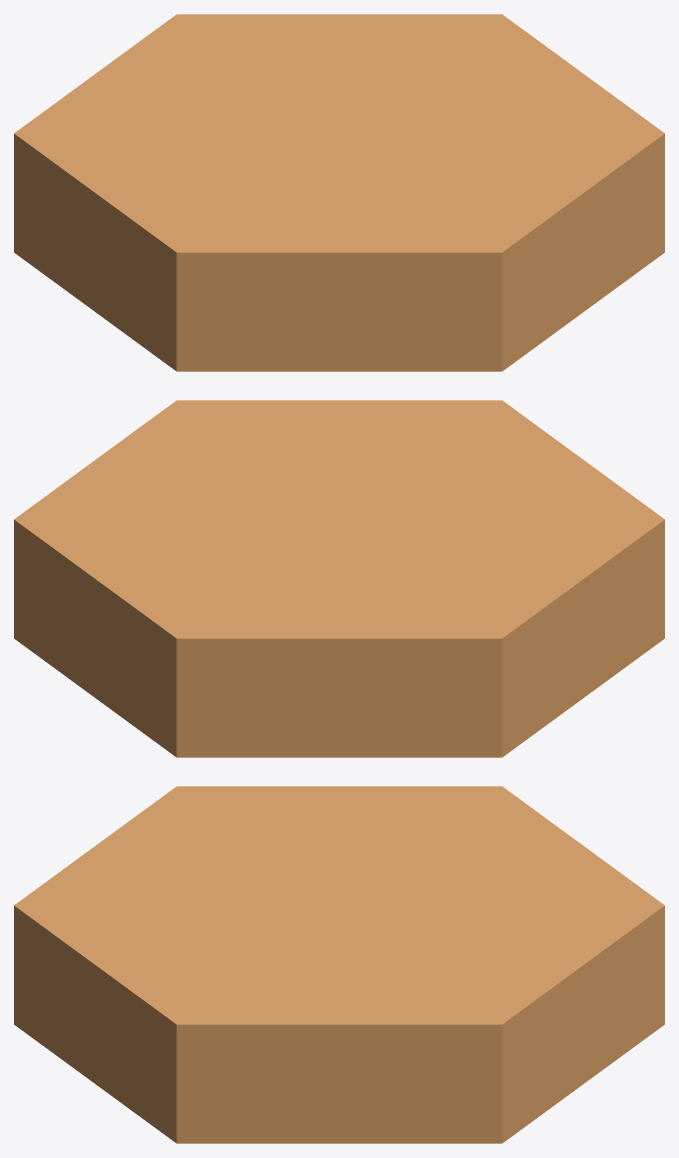
File: sand.fbx
3 renders of one model, top to bottom at view 1: azimuth 30°, elevation 25°; view 2: azimuth 150°, elevation 25°; view 3: azimuth 270°, elevation 25°, orthographic.
Parts seen in each view (by area): view 1: Sand; view 2: Sand; view 3: Sand.
Part boxes in pixels (x1=…): Sand: x1=14, y1=14, x2=664, y2=371; Sand: x1=14, y1=400, x2=664, y2=757; Sand: x1=14, y1=786, x2=664, y2=1143.
Size of the model in its own units: 173 by 40.37 by 200.
